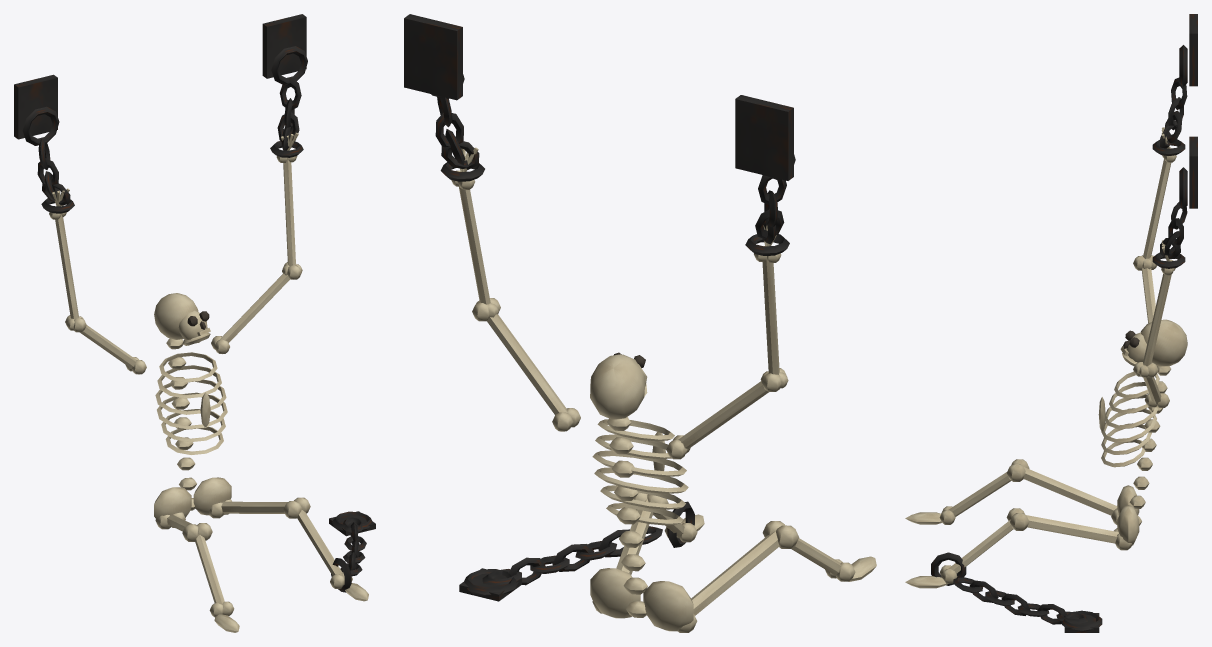
The model's file is chained_skeleton.glb.
3 views of the same model, side by side, from view 1: azimuth 30°, elevation 25°; view 2: azimuth 150°, elevation 25°; view 3: azimuth 270°, elevation 25° (orthographic). The views are drawn at different scales.
Parts seen in each view (by area): view 1: chained_skeleton; view 2: chained_skeleton; view 3: chained_skeleton.
Part boxes in pixels (x1,y1,x2,y2): chained_skeleton: (14,14,375,632); chained_skeleton: (404,14,876,632); chained_skeleton: (905,14,1197,632).
Size of the model in its own units: 1.2 by 1.82 by 1.01.
3 materials, 2 textured.
